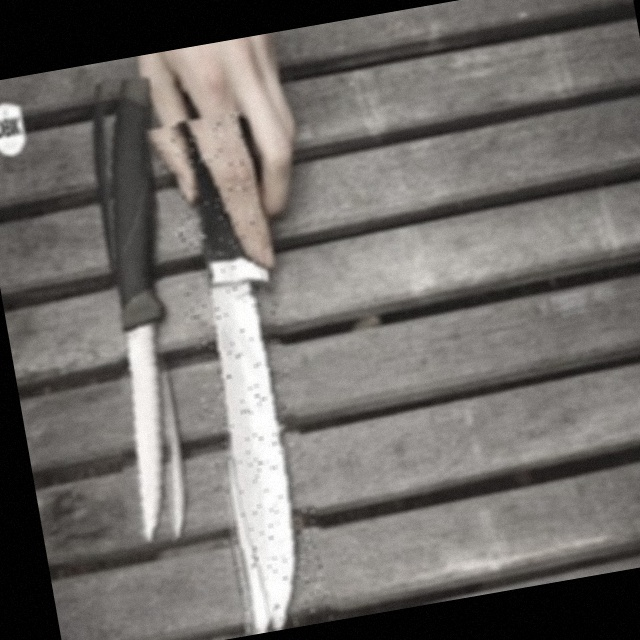Sharp-Object: (153, 111, 332, 637), (62, 77, 215, 545)
